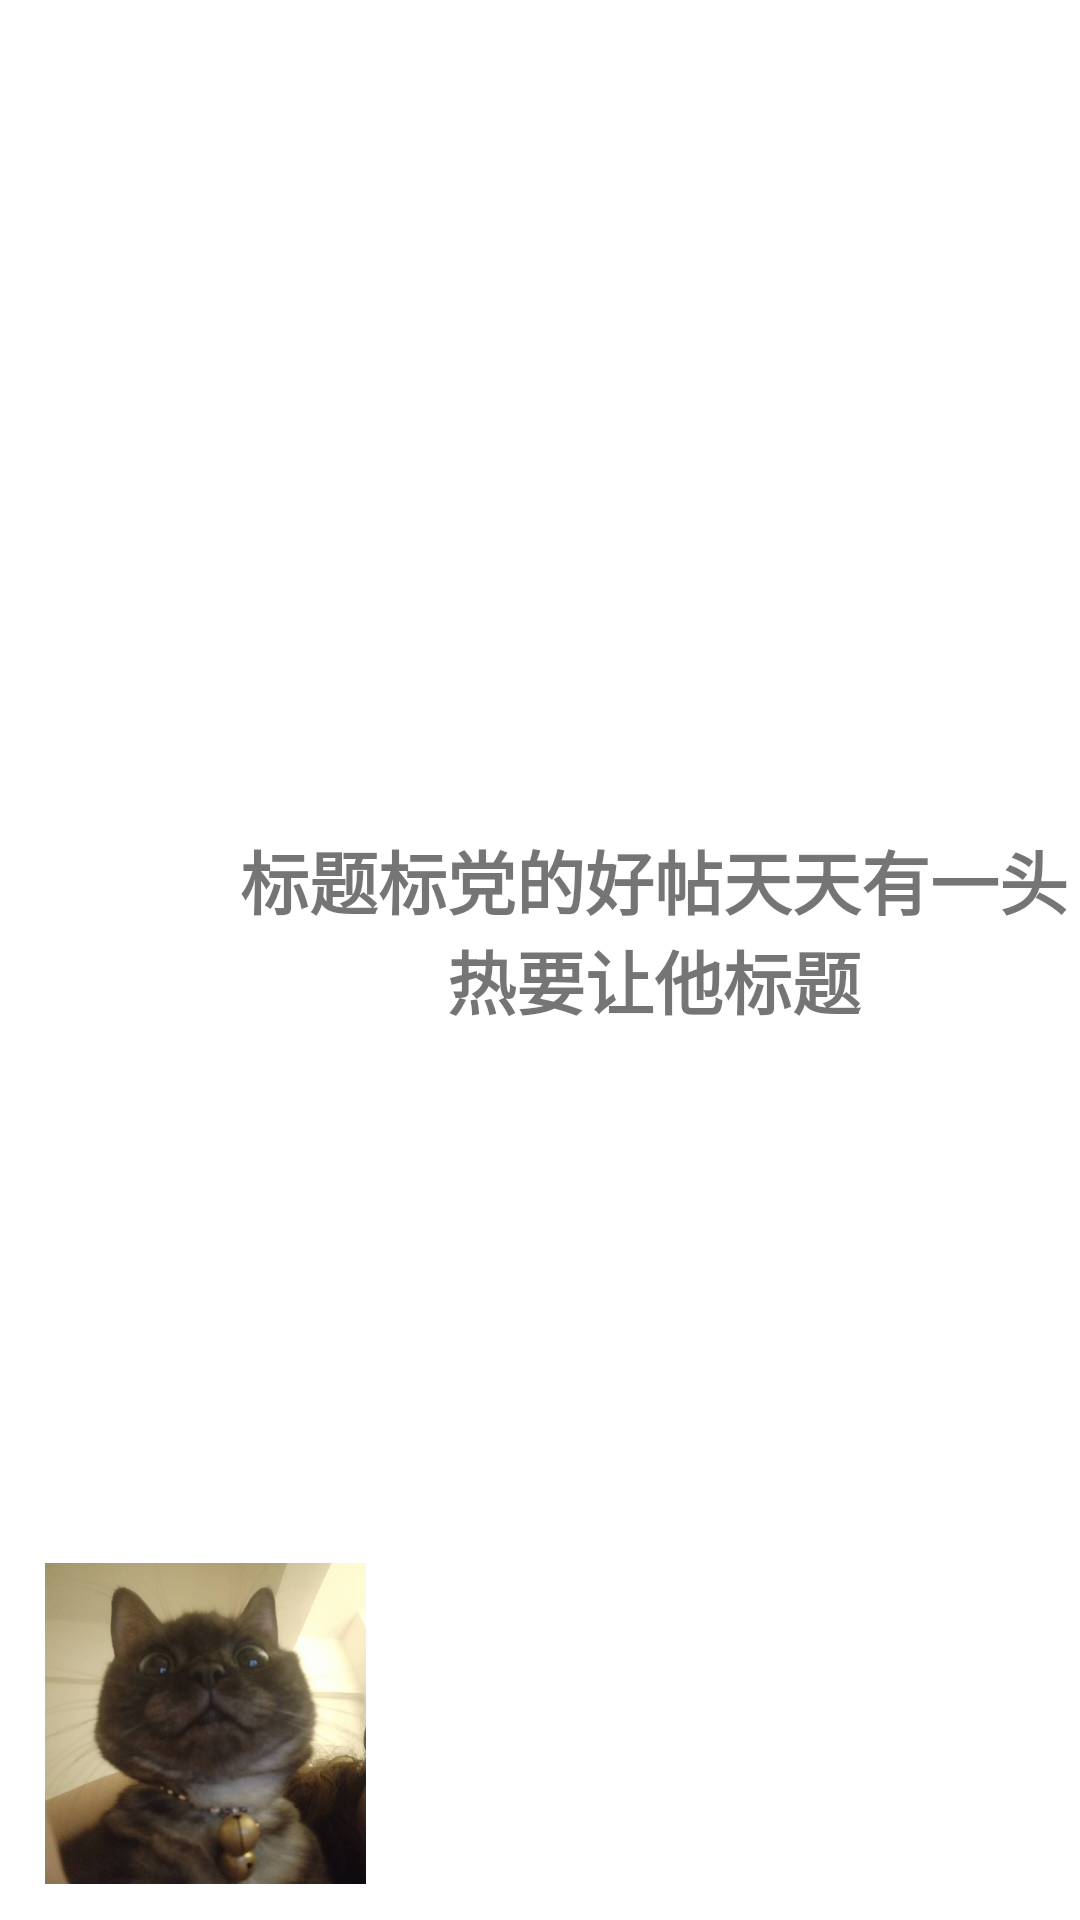

Locate icon controls on the screen. Image size 1080×1920, boxes as (x1, y1, x2, y2).
meww: (45, 1563, 366, 1884)
